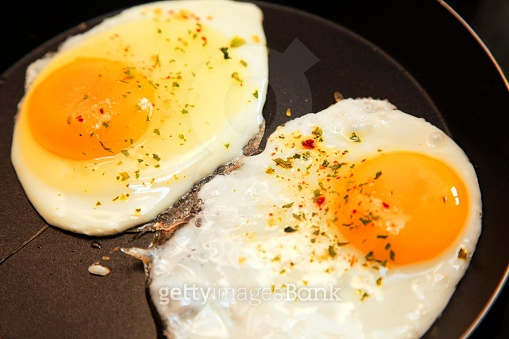fried egg: (155, 94, 485, 339), (13, 7, 268, 234)
